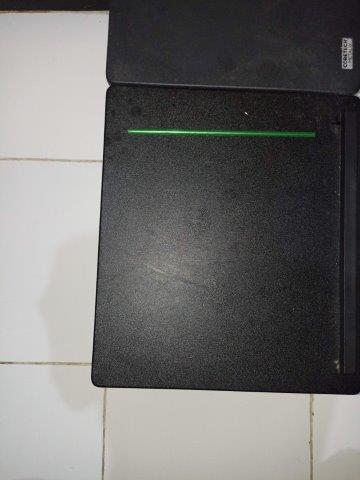sedotan: (128, 128, 315, 138)
